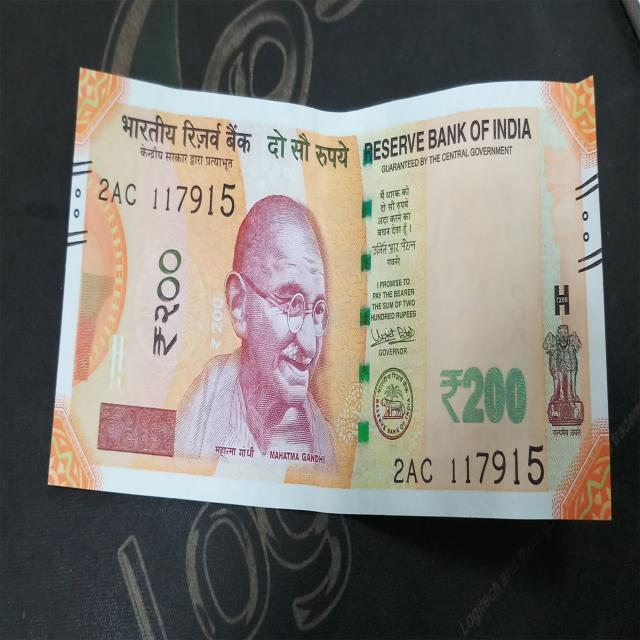200IndianRupees: (49, 61, 611, 523)
